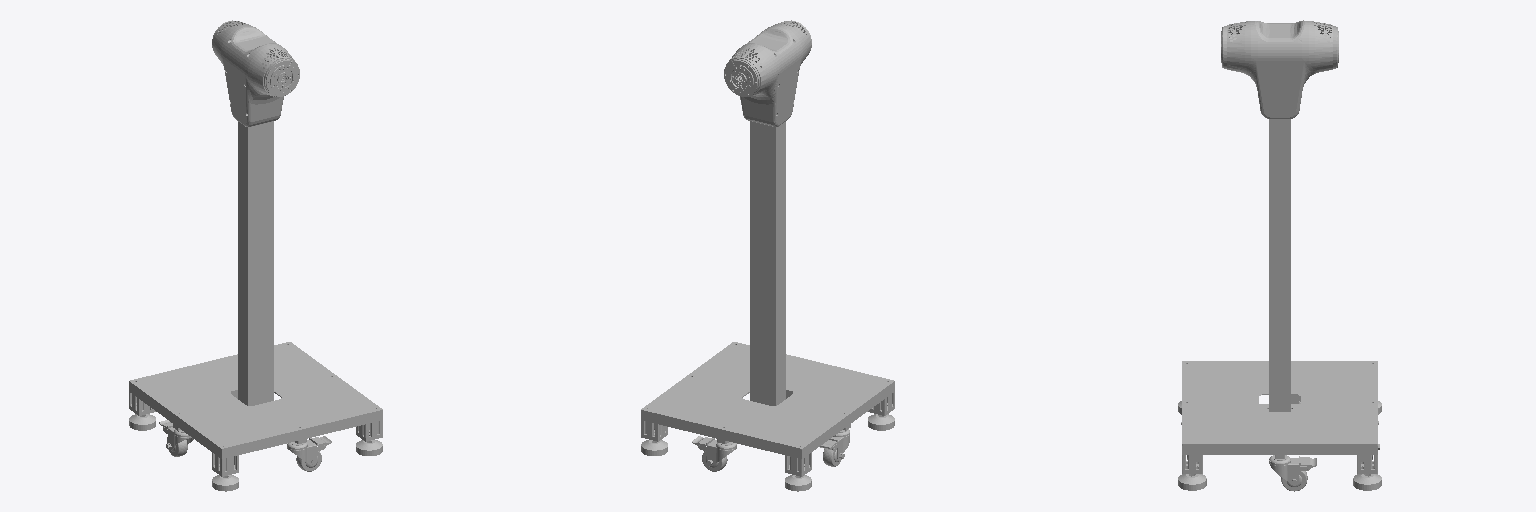
The robot description file, URDF, robot "lkls73_torso":
<?xml version='1.0' encoding='UTF-8'?>
<robot name="lkls73_torso">

  <!-- Stand: zero-mass link welded to world by the composer. base_link
       hangs from it via a fixed joint that lifts the shoulder level up
       to ~1.2 m so the arms (which extend ~0.6 m downward from the
       shoulders in the default pose) don't penetrate the ground plane.
       Tune this offset if the robot needs to sit higher/lower. -->
  <link name="torso_root" />
  <joint name="torso_stand" type="fixed">
    <origin xyz="0 0 1.2" rpy="0 0 0" />
    <parent link="torso_root" />
    <child link="base_link" />
  </joint>

  <link name="base_link">
    <inertial>
      <origin xyz="5.75109188383945E-05 1.44120839455095E-05 -0.489174317245241" rpy="0 0 0" />
      <mass value="10.8067081992573" />
      <inertia
        ixx="0.192527915393298" ixy="-1.67956043663548E-08" ixz="-3.68569447484118E-08"
        iyy="0.191539752328327" iyz="6.60319145138974E-08"
        izz="0.103049415034787" />
    </inertial>
    <visual>
      <origin xyz="0 0 0" rpy="0 0 0" />
      <geometry>
        <mesh filename="meshes/base_link.STL" />
      </geometry>
      <material name="lkls73_torso_gray">
        <color rgba="0.752941176470588 0.752941176470588 0.752941176470588 1" />
      </material>
    </visual>
    <collision>
      <origin xyz="0 0 0" rpy="0 0 0" />
      <geometry>
        <mesh filename="meshes/base_link.STL" />
      </geometry>
    </collision>
  </link>

  <link name="arm_left_mount" />
  <joint name="weld_arm_left_mount" type="fixed">
    <origin xyz="0 0.164 0" rpy="0 0 0" />
    <parent link="base_link" />
    <child link="arm_left_mount" />
  </joint>

  <link name="arm_right_mount" />
  <joint name="weld_arm_right_mount" type="fixed">
    <origin xyz="3.32E-05 -0.164 0" rpy="0 0 0" />
    <parent link="base_link" />
    <child link="arm_right_mount" />
  </joint>
</robot>

--- Render facts (derived) ---
3 views of the same robot in one strip: view 1: azimuth 30°, elevation 25°; view 2: azimuth 150°, elevation 25°; view 3: azimuth 270°, elevation 25° (orthographic).
Model lkls73_torso with 4 links and 3 joints (3 fixed), rooted at torso_root, posed all joints at 0.
Visible links, largest first — view 1: base_link; view 2: base_link; view 3: base_link.
Link boxes in pixels (x1,y1,x2,y2): base_link: (129, 20, 382, 491); base_link: (641, 20, 894, 491); base_link: (1178, 20, 1381, 491).
Size in the robot's own frame: 0.5698 by 0.57 by 1.33 metres.
Meshes: 1 distinct files referenced, 1 mesh visuals loaded (1 binary STL).
